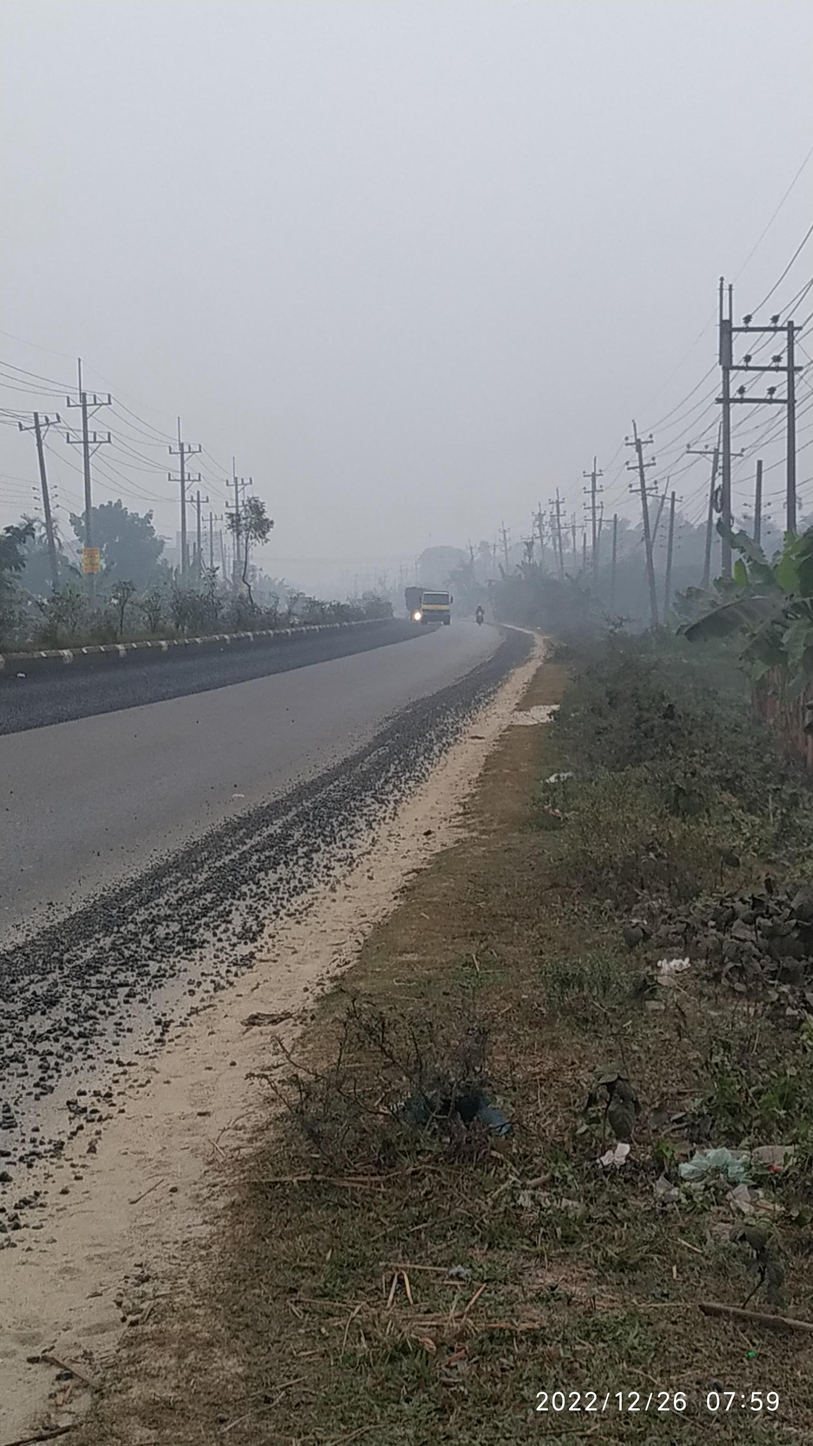Bike: (466, 593, 512, 640)
Truck: (400, 580, 465, 647)
